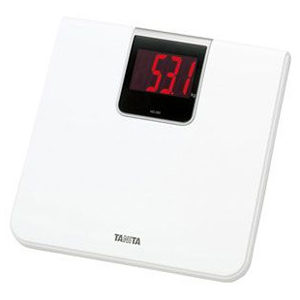LCD: (128, 46, 198, 99)
